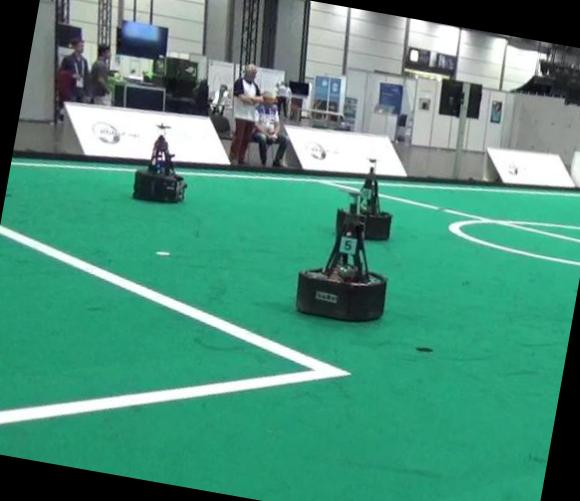person: (230, 63, 263, 164)
robot: (297, 193, 387, 320), (133, 134, 186, 201), (361, 158, 392, 240)
